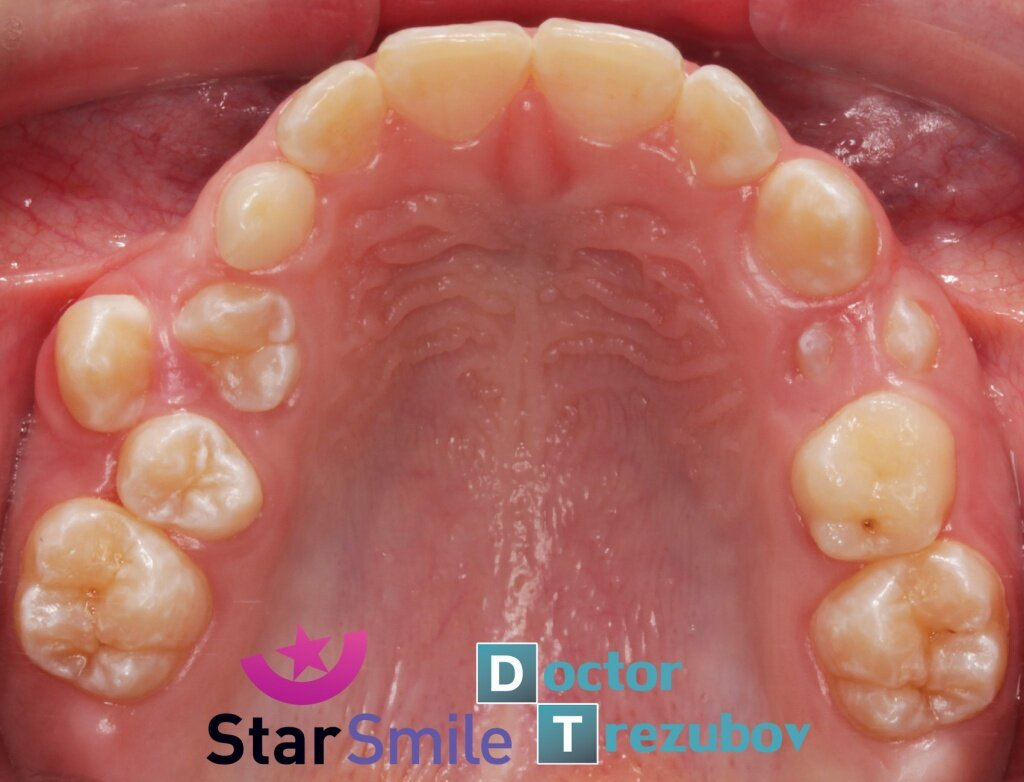UL1BC_decay: (805, 408, 957, 548)
UL2BC_healthy: (819, 567, 1007, 716)
ULCI_healthy: (528, 17, 682, 151)
ULC_healthy: (749, 163, 873, 301)
ULLI_healthy: (678, 68, 779, 183)
UR1BC_healthy: (176, 284, 302, 414)
UR1M_healthy: (30, 519, 211, 685)
UR2BC_healthy: (120, 427, 269, 537)
URCI_healthy: (380, 20, 529, 146)
URC_healthy: (216, 167, 319, 259)
URLI_healthy: (284, 66, 388, 170)
